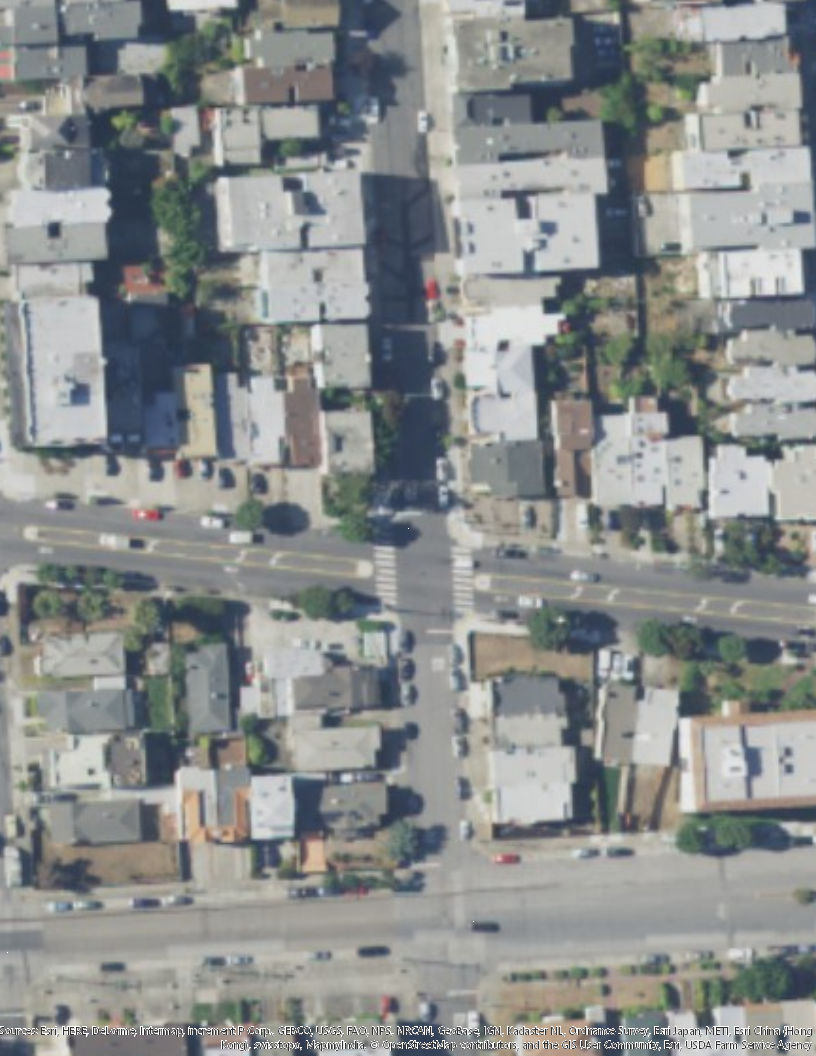zebracross: (451, 545, 476, 612), (375, 537, 399, 600)
